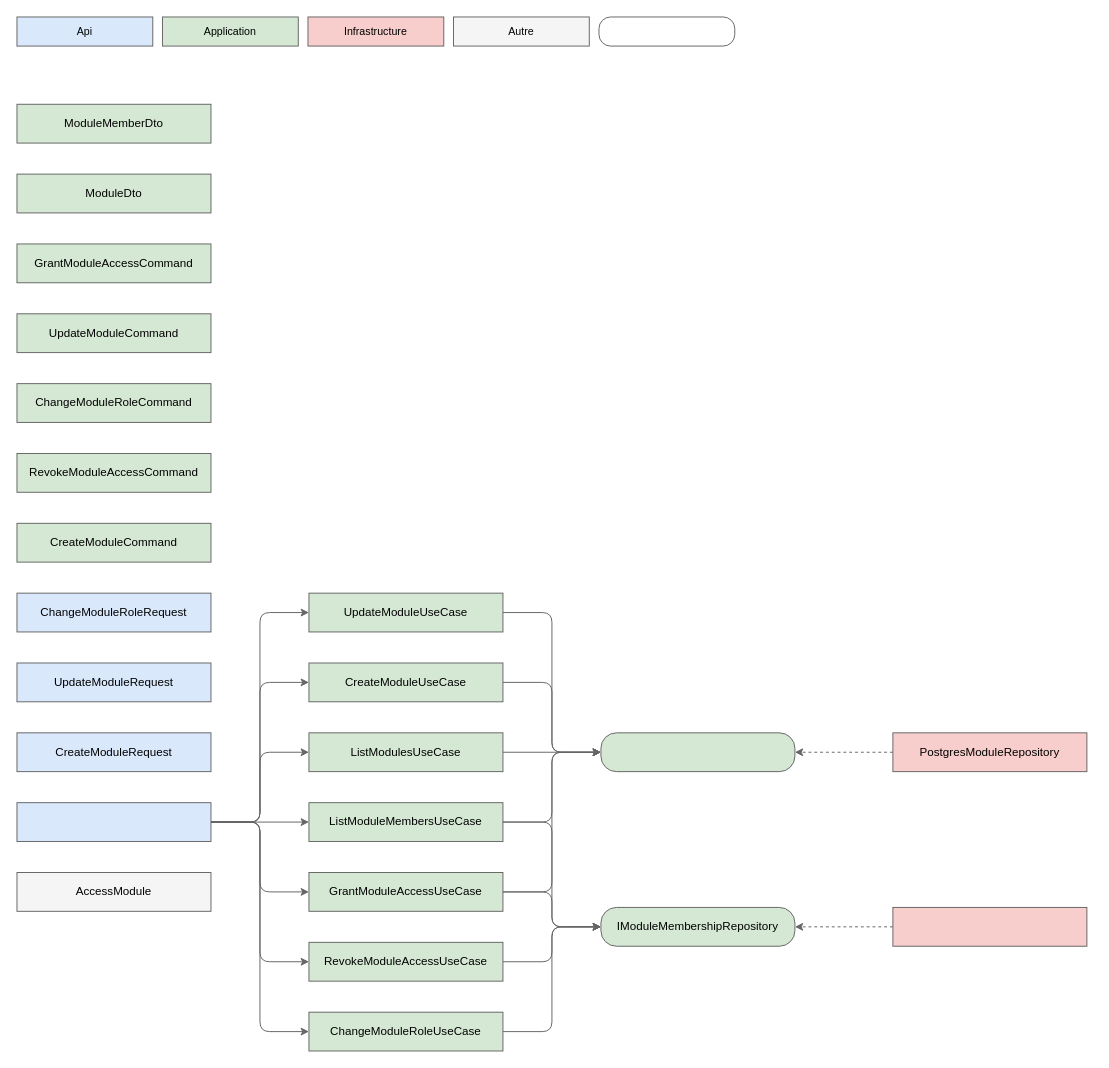
This 1109x1068 diagram has some shape labels left out. The box of each missing label's shape, as (x1, y1, x2, y2) in pixels:
IModuleRepository: (600, 732, 795, 772)
ModulesController: (16, 802, 211, 841)
Port (interface): (598, 16, 735, 46)
PostgresModuleMembershipRepository: (892, 906, 1087, 946)
